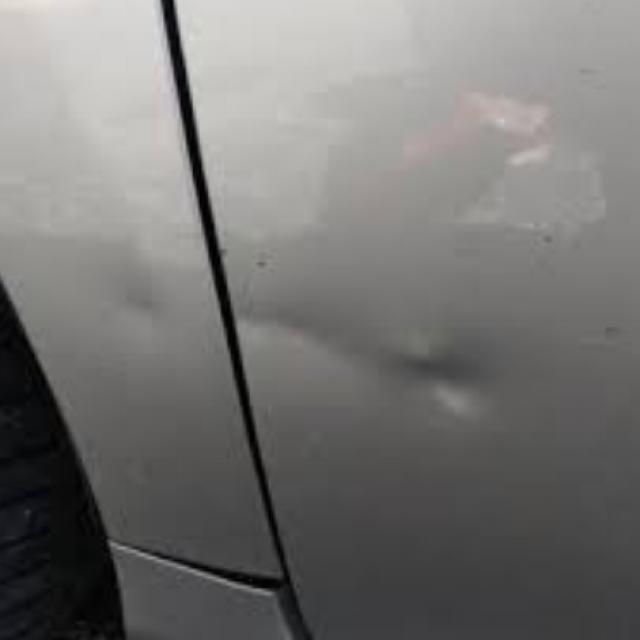dents: (217, 287, 349, 394), (402, 334, 511, 446), (91, 263, 196, 357)
